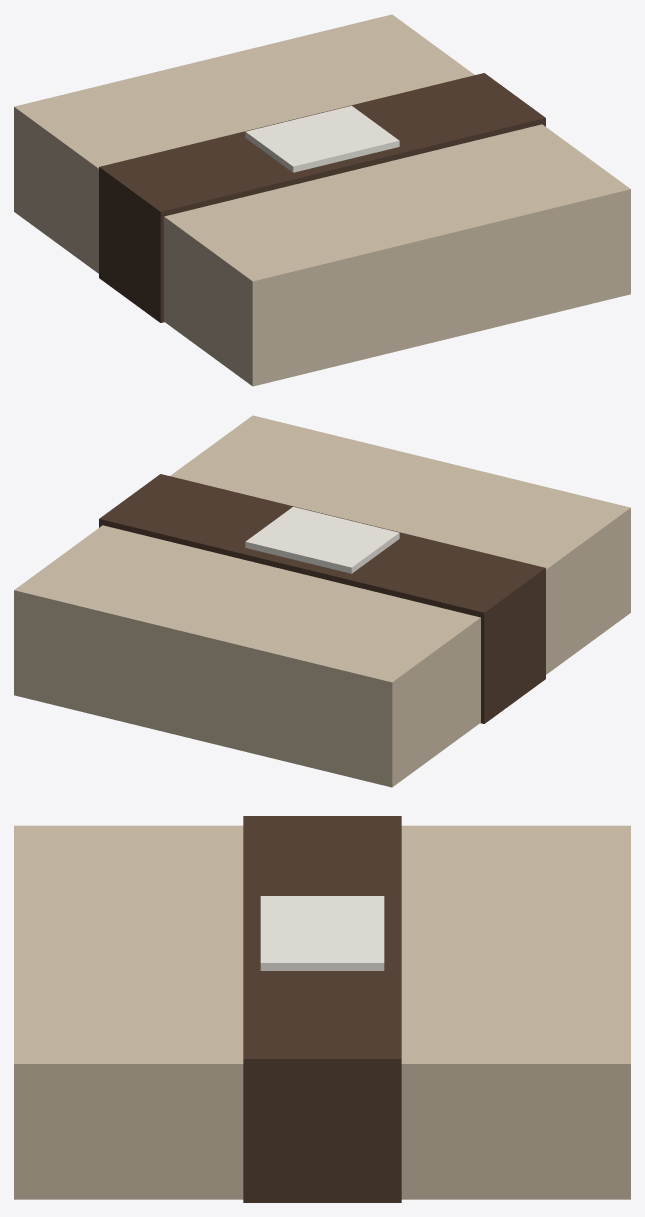
Rendered from SV_MP_SKU_08_v01.glb.
3 views of the same model, one above another, from view 1: azimuth 30°, elevation 25°; view 2: azimuth 150°, elevation 25°; view 3: azimuth 270°, elevation 25° (orthographic). The views are drawn at different scales.
Visible parts, largest first — view 1: mproto_SV_MP_SKU_08_v01; view 2: mproto_SV_MP_SKU_08_v01; view 3: mproto_SV_MP_SKU_08_v01.
Boxes of the visible parts, x1,y1,x2,y2 form: mproto_SV_MP_SKU_08_v01: (14,14,630,386); mproto_SV_MP_SKU_08_v01: (14,415,630,787); mproto_SV_MP_SKU_08_v01: (14,816,630,1202).
Bounding box in the file's own units: 0.0652 × 0.019 × 0.07.
